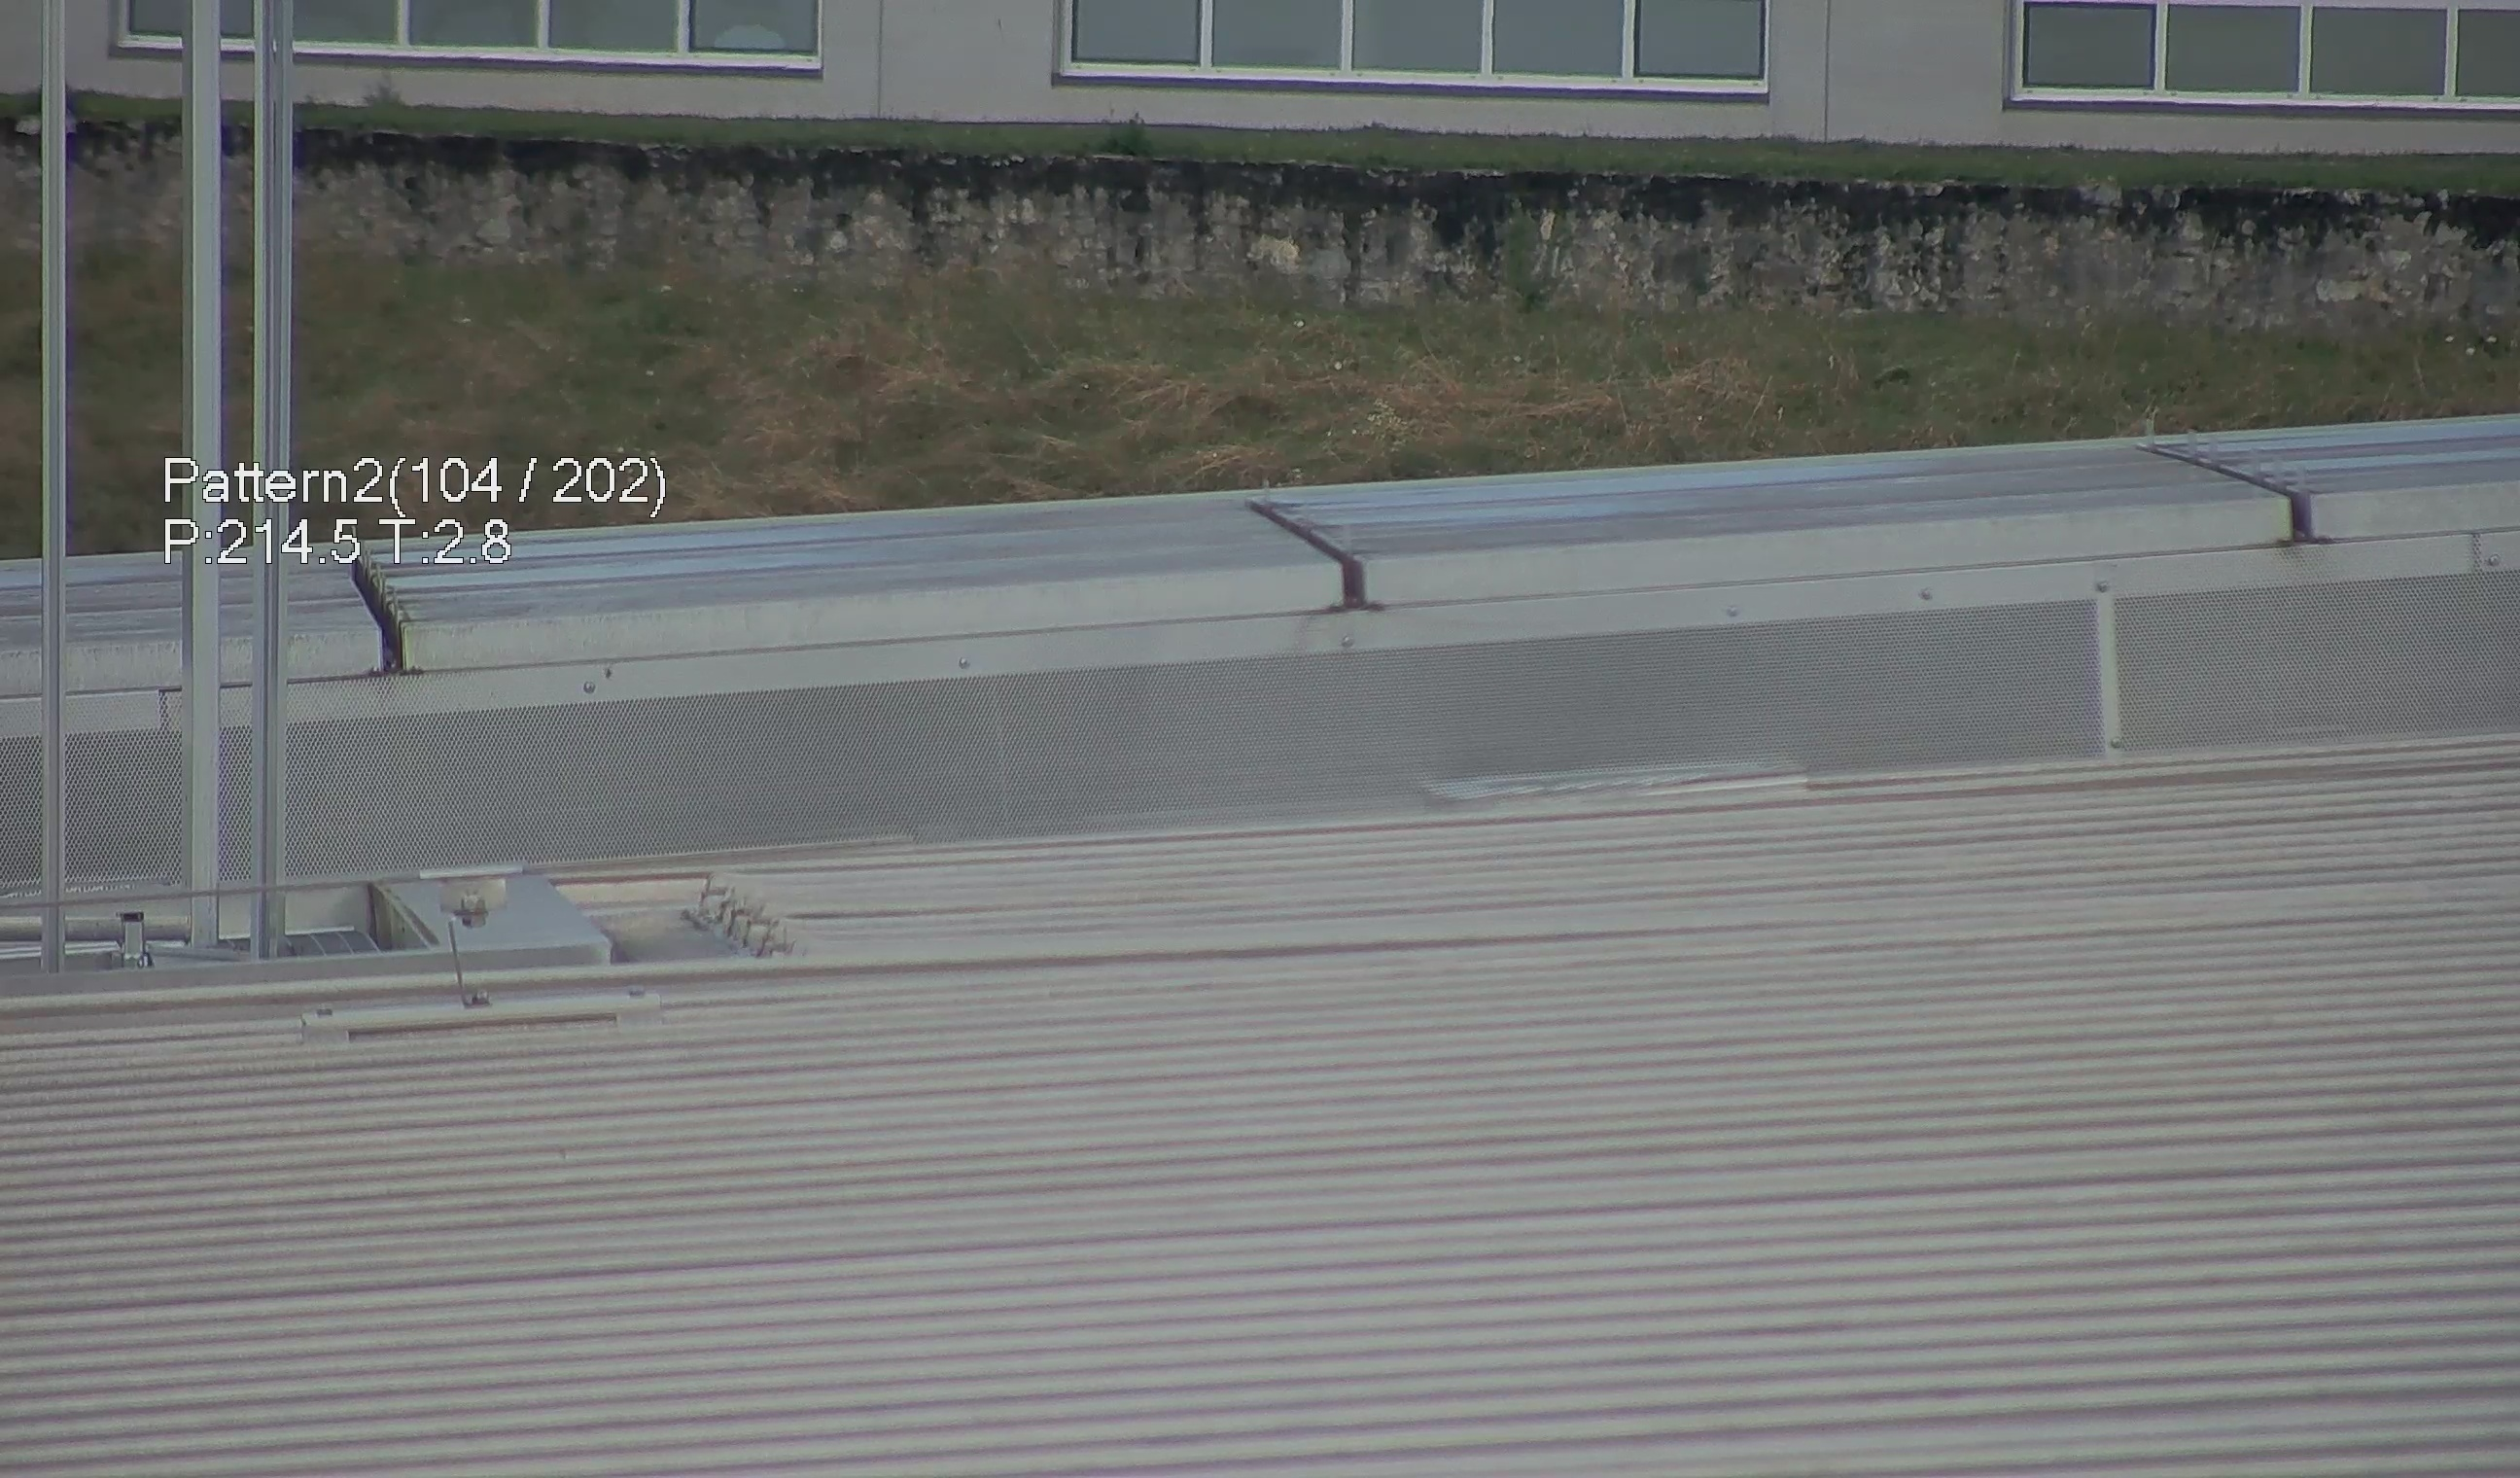Other: (329, 540, 415, 681)
